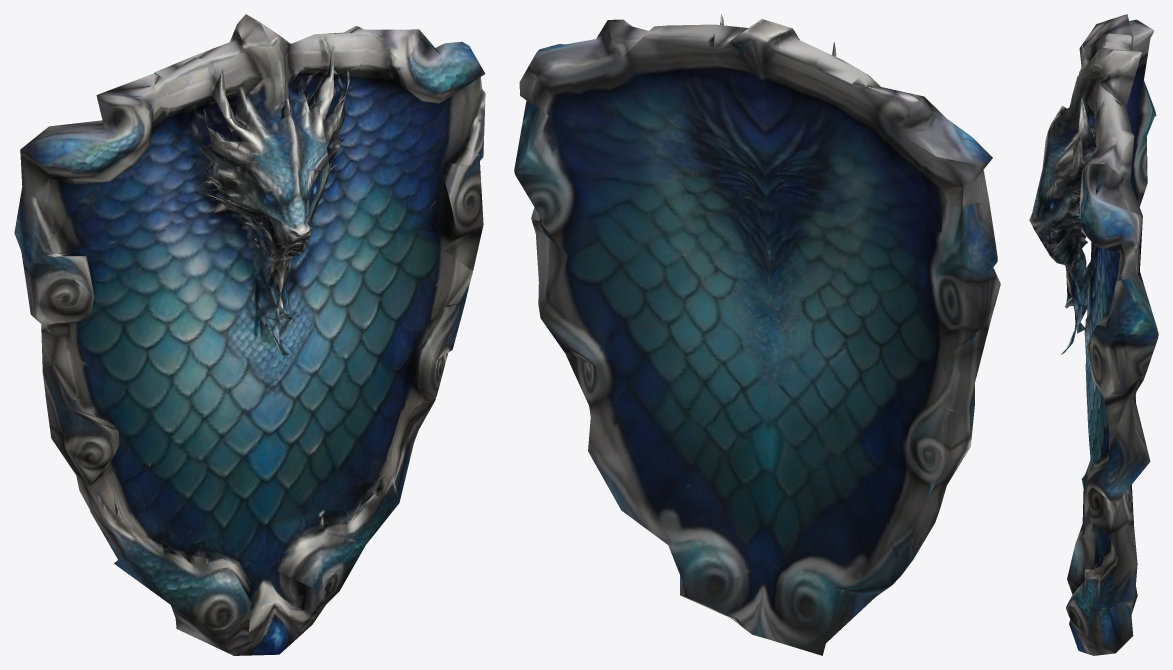
Rendered from 472_s_dragon.glb.
3 renders of one model, left to right at view 1: azimuth 30°, elevation 25°; view 2: azimuth 150°, elevation 25°; view 3: azimuth 270°, elevation 25°, orthographic. The views are drawn at different scales.
Parts seen in each view (by area): view 1: Model; view 2: Model; view 3: Model.
Boxes of the visible parts, x1=… form: Model: x1=14, y1=14, x2=485, y2=655; Model: x1=514, y1=14, x2=1000, y2=655; Model: x1=1029, y1=14, x2=1158, y2=655.
Bounding box in the file's own units: 0.7732 × 1 × 0.1955.
1 material, 1 textured.
